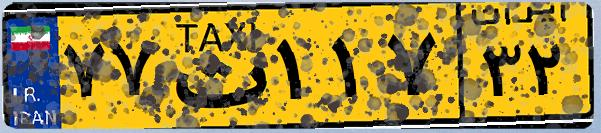1: (270, 28, 330, 110), (330, 28, 385, 110)
2: (525, 38, 570, 115)
3: (475, 38, 525, 113)
7: (385, 28, 445, 110), (57, 26, 110, 100), (110, 28, 158, 98)
ت: (158, 12, 270, 120)
